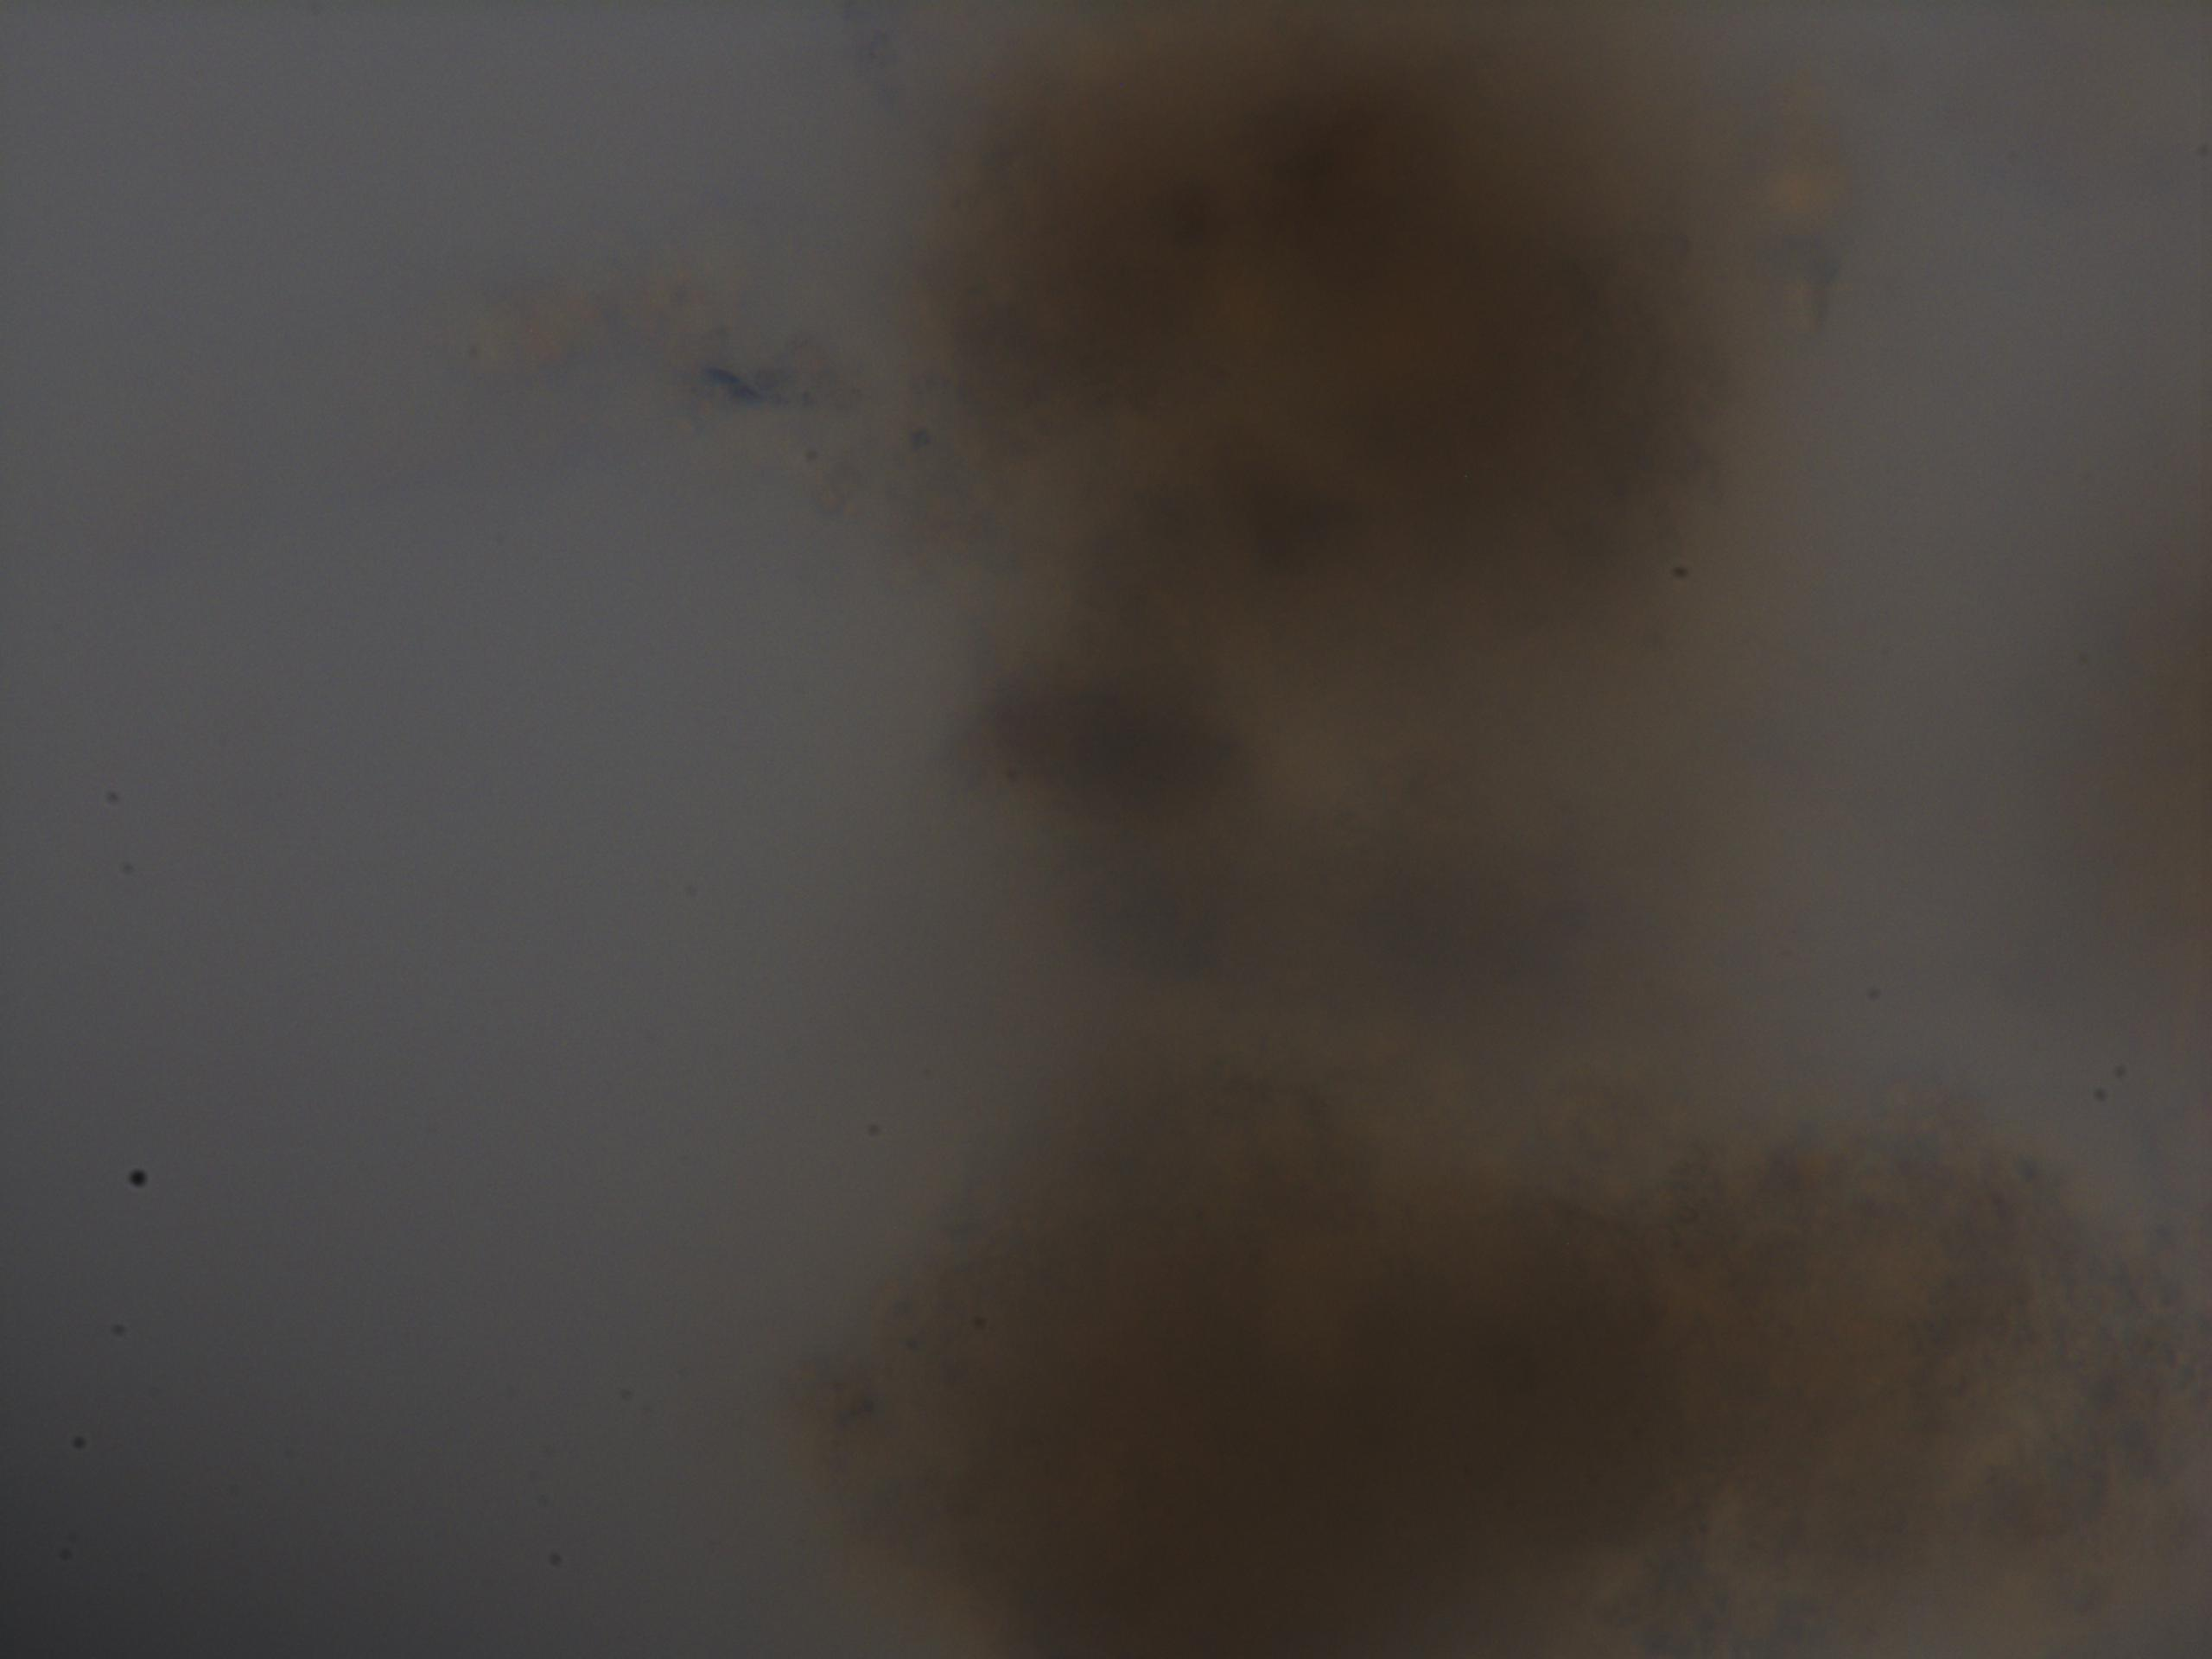spherical_floc: (914, 0, 1743, 673)
